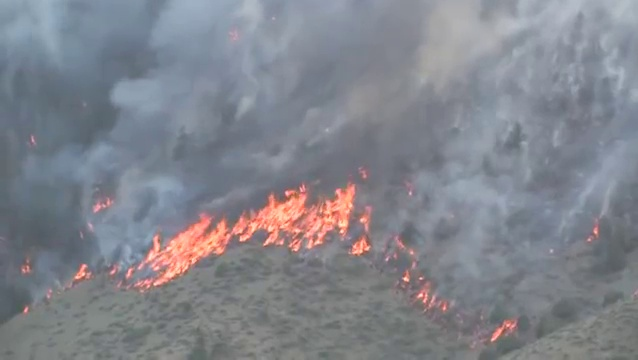fire: (145, 183, 356, 284), (493, 321, 516, 340), (352, 238, 369, 256), (415, 289, 433, 303), (75, 262, 88, 278)
